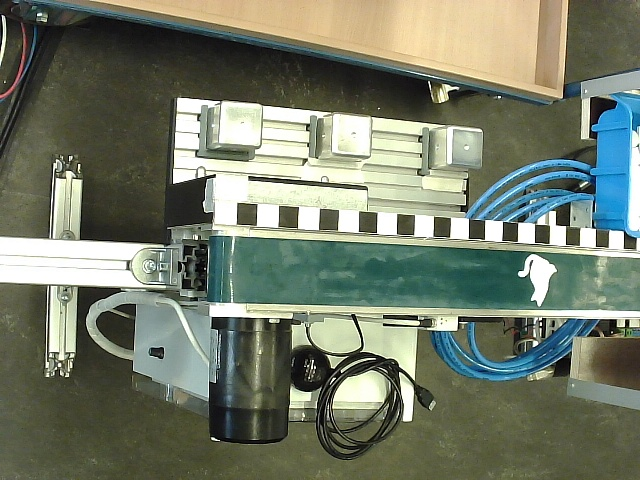cat: (517, 255, 558, 308)
